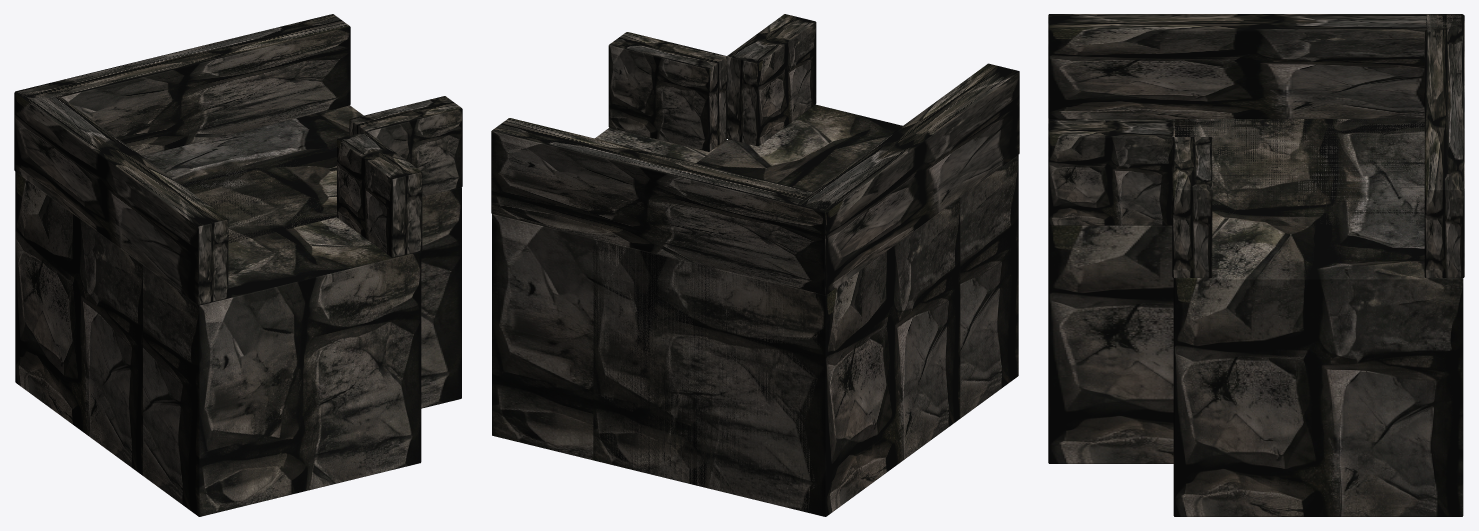
Rendered from fortress_wallwalk_corner_inner_LOD2.glb.
The picture shows the model from 3 angles, left to right: view 1: azimuth 30°, elevation 25°; view 2: azimuth 150°, elevation 25°; view 3: azimuth 270°, elevation 25°; orthographic projection. The views are drawn at different scales.
Parts seen in each view (by area): view 1: LOD_ArmSouth.001, LOD_ArmEast.001, LOD_Parapet.005, LOD_Parapet.004, LOD_Parapet.006, LOD_Parapet.007; view 2: LOD_ArmEast.001, LOD_ArmSouth.001, LOD_Parapet.005, LOD_Parapet.004, LOD_Parapet.007, LOD_Parapet.006; view 3: LOD_ArmEast.001, LOD_Parapet.004, LOD_ArmSouth.001, LOD_Parapet.006, LOD_Parapet.005, LOD_Parapet.007.
Boxes of the visible parts, x1,y1,x2,y2 form: LOD_ArmSouth.001: (143,129,421,516); LOD_ArmEast.001: (15,105,461,475); LOD_Parapet.005: (15,14,350,155); LOD_Parapet.004: (14,91,228,305); LOD_Parapet.006: (337,131,422,257); LOD_Parapet.007: (349,96,462,196); LOD_ArmEast.001: (492,128,960,516); LOD_ArmSouth.001: (593,104,1018,516); LOD_Parapet.005: (491,118,838,294); LOD_Parapet.004: (797,63,1019,294); LOD_Parapet.007: (608,32,727,151); LOD_Parapet.006: (727,14,816,146); LOD_ArmEast.001: (1173,119,1463,516); LOD_Parapet.004: (1048,14,1462,118); LOD_ArmSouth.001: (1048,118,1424,463); LOD_Parapet.006: (1048,120,1173,225); LOD_Parapet.005: (1424,14,1464,277); LOD_Parapet.007: (1172,137,1212,277).
Size of the model in its own units: 4.82 by 4.19 by 4.82.
Materials: 1 (1 with a texture image).
